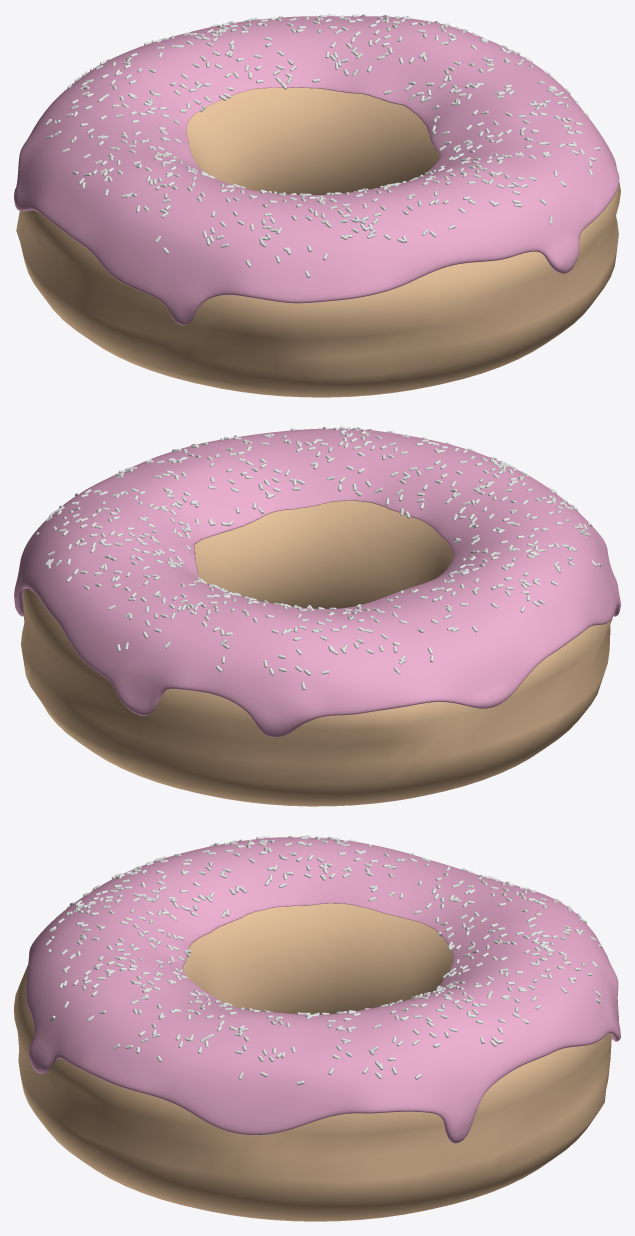
File: ExportedBlenderFBXFile.fbx
The picture shows the model from 3 angles, top to bottom: view 1: azimuth 30°, elevation 25°; view 2: azimuth 150°, elevation 25°; view 3: azimuth 270°, elevation 25°; orthographic projection.
Visible parts, largest first — view 1: Icing, Donut; view 2: Icing, Donut; view 3: Icing, Donut.
Part boxes in pixels (left/top/right/bottom): Icing: left=14, top=16, right=619, bottom=325; Donut: left=16, top=87, right=620, bottom=397; Icing: left=14, top=428, right=620, bottom=737; Donut: left=21, top=500, right=612, bottom=806; Icing: left=26, top=837, right=620, bottom=1143; Donut: left=14, top=903, right=611, bottom=1221.
Size of the model in its own units: 0.2888 by 0.1032 by 0.2909.
